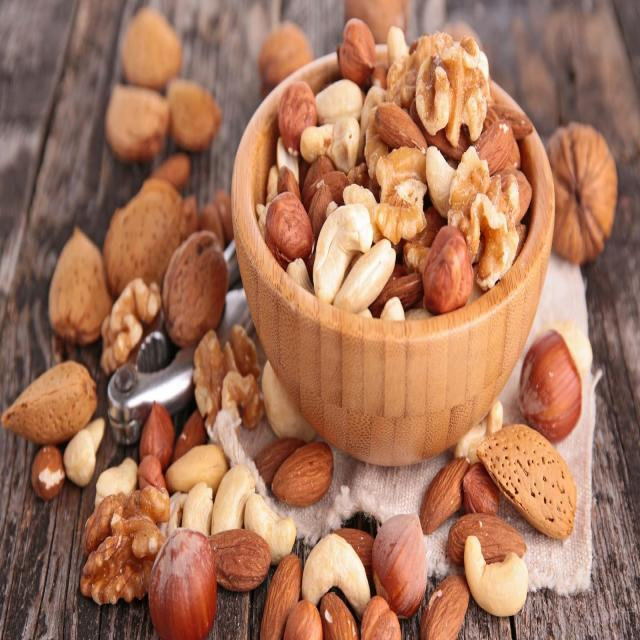Frutta secca: (268, 36, 521, 316), (304, 420, 575, 640), (96, 417, 296, 640)
